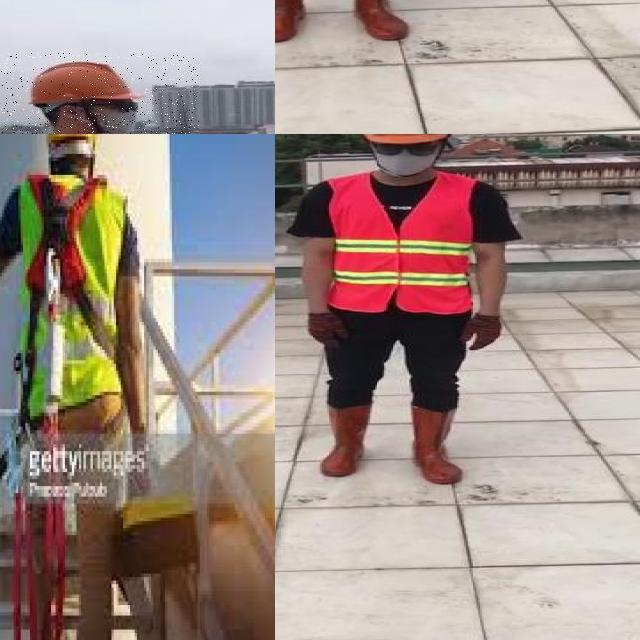Harness: (26, 176, 117, 356)
boots: (407, 403, 464, 485), (322, 403, 372, 477), (347, 0, 407, 42), (275, 0, 315, 41)
face_mask: (369, 136, 440, 178)
glasses: (370, 136, 441, 160)
hand_glove: (459, 316, 503, 352), (306, 312, 347, 347)
head_helmet: (23, 59, 142, 107), (357, 134, 453, 145)
person: (291, 134, 531, 495), (1, 53, 199, 134)
vest: (327, 173, 475, 314)
